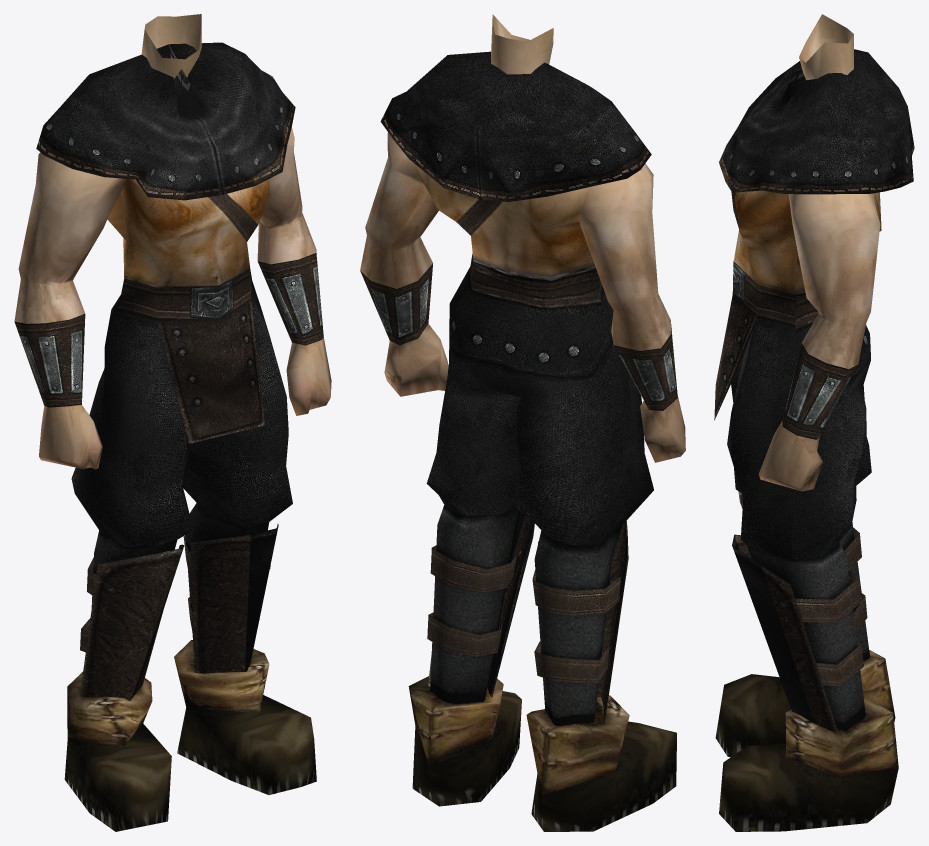
File: TESMAGE.glb
The picture shows the model from 3 angles, left to right: view 1: azimuth 30°, elevation 25°; view 2: azimuth 150°, elevation 25°; view 3: azimuth 270°, elevation 25°; orthographic projection. The views are drawn at different scales.
Visible parts, largest first — view 1: TESMAGE; view 2: TESMAGE; view 3: TESMAGE.
Part boxes in pixels (<box>): TESMAGE: <box>14,14,331,831</box>; TESMAGE: <box>360,14,685,831</box>; TESMAGE: <box>714,14,914,831</box>.
Size of the model in its own units: 0.6886 by 1.69 by 0.4063.
Materials: 3 (3 with a texture image).
